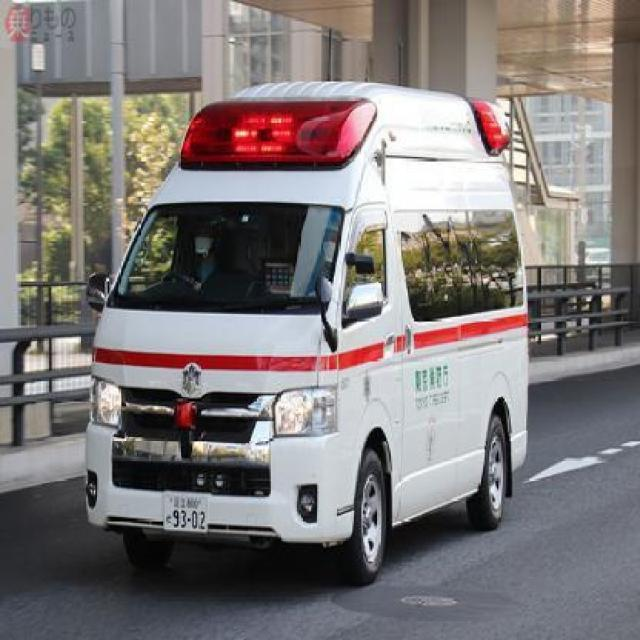emergency: (82, 79, 530, 586)
